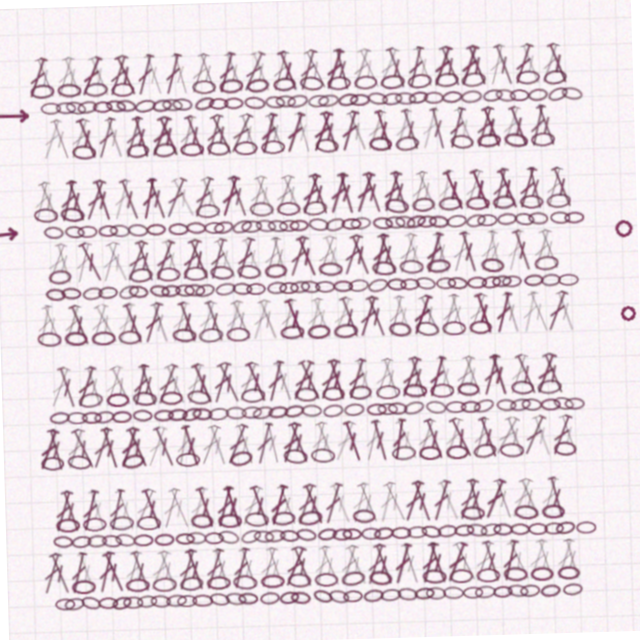chain: (508, 137, 534, 155), (387, 199, 413, 217), (414, 323, 440, 341), (184, 385, 210, 403), (117, 447, 142, 465), (225, 447, 250, 465), (333, 571, 359, 588), (306, 75, 331, 92), (63, 199, 88, 216), (76, 385, 101, 402), (63, 447, 88, 464), (279, 447, 304, 464), (292, 509, 317, 526), (553, 92, 576, 110), (388, 323, 412, 340), (469, 447, 493, 464), (361, 571, 385, 588), (387, 76, 412, 92), (414, 76, 439, 92), (468, 76, 493, 92), (400, 138, 425, 154), (306, 200, 331, 216), (130, 262, 155, 278), (211, 262, 236, 278), (238, 262, 263, 278), (373, 262, 398, 278), (198, 324, 223, 340), (292, 386, 317, 402), (508, 510, 533, 526), (225, 572, 250, 588), (400, 402, 423, 419), (470, 402, 493, 419), (211, 526, 234, 543), (253, 76, 277, 92), (550, 76, 574, 92), (320, 138, 344, 154), (455, 138, 479, 154), (482, 262, 506, 278), (172, 572, 196, 588), (333, 324, 358, 339), (130, 386, 155, 401), (535, 386, 560, 401), (200, 92, 222, 109), (234, 216, 256, 233), (408, 216, 430, 233), (119, 278, 141, 295), (178, 402, 200, 419), (550, 402, 572, 419), (234, 526, 256, 543), (72, 588, 94, 605), (304, 588, 326, 605), (140, 93, 163, 109), (567, 93, 590, 109), (249, 403, 272, 419), (37, 76, 61, 91), (64, 76, 88, 91), (91, 76, 115, 91), (226, 76, 250, 91), (442, 76, 466, 91), (523, 76, 547, 91), (77, 138, 101, 153), (131, 138, 155, 153), (158, 138, 182, 153), (482, 138, 506, 153), (37, 200, 61, 215), (253, 200, 277, 215), (415, 200, 439, 215), (442, 200, 466, 215), (550, 200, 574, 215), (320, 262, 344, 277), (401, 262, 425, 277), (428, 262, 452, 277), (536, 262, 560, 277), (37, 324, 61, 339), (172, 324, 196, 339), (280, 324, 304, 339), (239, 386, 263, 401), (401, 386, 425, 401), (307, 448, 331, 463), (388, 448, 412, 463), (496, 448, 520, 463), (104, 510, 128, 525), (239, 510, 263, 525), (266, 510, 290, 525), (455, 510, 479, 525), (280, 572, 304, 587), (415, 572, 439, 587), (496, 572, 520, 587), (71, 93, 93, 109), (501, 93, 523, 109), (327, 217, 349, 233), (468, 217, 490, 233), (195, 279, 217, 295), (368, 279, 390, 295), (414, 527, 436, 543), (103, 589, 125, 605), (320, 589, 342, 605), (280, 76, 303, 91), (212, 138, 235, 153), (374, 138, 397, 153), (496, 200, 519, 215), (50, 262, 73, 277), (266, 262, 289, 277), (64, 324, 87, 339), (307, 324, 330, 339), (347, 386, 370, 401), (455, 386, 478, 401), (509, 386, 532, 401), (550, 448, 573, 463), (185, 510, 208, 525), (347, 510, 370, 525), (199, 77, 223, 91), (334, 77, 358, 91), (185, 139, 209, 153), (239, 139, 263, 153), (266, 139, 290, 153), (536, 139, 560, 153), (199, 201, 223, 215), (280, 201, 304, 215), (469, 201, 493, 215), (523, 201, 547, 215), (158, 263, 182, 277), (185, 263, 209, 277), (91, 325, 115, 339), (226, 325, 250, 339), (442, 325, 466, 339), (374, 387, 398, 401), (428, 387, 452, 401), (172, 449, 196, 463), (50, 511, 74, 525), (77, 511, 101, 525), (131, 511, 155, 525), (212, 511, 236, 525), (64, 573, 88, 587), (118, 573, 142, 587), (145, 573, 169, 587), (199, 573, 223, 587), (253, 573, 277, 587), (307, 573, 331, 587), (442, 573, 466, 587), (469, 573, 493, 587), (111, 93, 133, 108), (293, 93, 315, 108), (373, 93, 395, 108), (414, 93, 436, 108), (397, 217, 419, 232), (507, 403, 529, 418), (108, 527, 130, 542), (289, 527, 311, 542), (460, 527, 482, 542), (474, 527, 496, 542), (217, 589, 239, 604), (499, 589, 521, 604), (118, 77, 141, 91), (361, 77, 384, 91), (118, 325, 141, 339), (469, 325, 492, 339), (104, 387, 127, 401), (158, 387, 181, 401), (320, 387, 343, 401), (37, 449, 60, 463), (415, 449, 438, 463), (442, 449, 465, 463), (536, 511, 559, 525), (523, 573, 546, 587), (550, 573, 573, 587), (83, 93, 104, 108), (122, 93, 143, 108), (344, 93, 365, 108), (489, 93, 510, 108), (216, 217, 237, 232), (258, 217, 279, 232), (311, 217, 332, 232), (129, 279, 150, 294), (150, 279, 171, 294), (216, 279, 237, 294), (301, 279, 322, 294), (416, 279, 437, 294), (281, 403, 302, 418), (423, 403, 444, 418), (311, 527, 332, 542), (549, 527, 570, 542), (201, 589, 222, 604), (271, 589, 292, 604), (389, 589, 410, 604), (250, 94, 272, 108), (314, 94, 336, 108), (324, 94, 346, 108), (401, 94, 423, 108), (467, 94, 489, 108), (205, 404, 227, 418), (372, 590, 394, 604), (158, 94, 179, 108), (168, 94, 189, 108), (271, 94, 292, 108), (388, 94, 409, 108), (448, 94, 469, 108), (534, 94, 555, 108), (46, 218, 67, 232), (67, 218, 88, 232), (112, 218, 133, 232), (130, 218, 151, 232), (270, 218, 291, 232), (375, 218, 396, 232), (431, 218, 452, 232), (449, 218, 470, 232), (517, 218, 538, 232), (46, 280, 67, 294), (83, 280, 104, 294), (448, 280, 469, 294), (482, 280, 503, 294), (91, 404, 112, 418), (265, 404, 286, 418), (320, 404, 341, 418), (65, 528, 86, 542), (95, 528, 116, 542), (247, 528, 268, 542), (273, 528, 294, 542), (367, 528, 388, 542), (56, 590, 77, 604), (282, 590, 303, 604), (355, 590, 376, 604), (532, 590, 553, 604), (258, 528, 280, 541), (178, 94, 199, 107), (244, 218, 265, 231), (353, 218, 374, 231), (185, 280, 206, 293), (233, 280, 254, 293), (349, 280, 370, 293), (189, 404, 210, 417), (223, 404, 244, 417), (341, 404, 362, 417), (431, 528, 452, 541), (142, 590, 163, 603), (158, 590, 179, 603), (406, 590, 427, 603), (435, 590, 456, 603), (467, 590, 488, 603), (282, 94, 302, 107), (189, 218, 209, 231), (388, 218, 408, 231), (420, 218, 440, 231), (500, 218, 520, 231), (531, 218, 551, 231), (553, 218, 573, 231), (62, 280, 82, 293), (99, 280, 119, 293), (162, 280, 182, 293), (176, 280, 196, 293), (268, 280, 288, 293), (291, 280, 311, 293), (388, 280, 408, 293), (493, 280, 513, 293), (525, 280, 545, 293), (542, 280, 562, 293), (47, 404, 67, 417), (130, 404, 150, 417), (165, 404, 185, 417), (239, 404, 259, 417), (299, 404, 319, 417), (385, 404, 405, 417), (494, 404, 514, 417), (519, 404, 539, 417), (47, 528, 67, 541), (81, 528, 101, 541), (180, 528, 200, 541), (448, 528, 468, 541), (487, 528, 507, 541), (129, 590, 149, 603), (230, 590, 250, 603), (252, 590, 272, 603), (418, 590, 438, 603), (512, 590, 532, 603), (555, 590, 575, 603), (559, 281, 580, 293), (64, 405, 85, 417), (443, 405, 464, 417), (184, 591, 205, 603), (47, 95, 67, 107), (62, 95, 82, 107), (99, 95, 119, 107), (215, 95, 235, 107), (230, 95, 250, 107), (356, 95, 376, 107), (430, 95, 450, 107), (516, 95, 536, 107), (80, 219, 100, 231), (101, 219, 121, 231), (149, 219, 169, 231), (171, 219, 191, 231), (207, 219, 227, 231), (282, 219, 302, 231), (292, 219, 312, 231), (344, 219, 364, 231), (480, 219, 500, 231), (567, 219, 587, 231), (247, 281, 267, 293), (280, 281, 300, 293), (316, 281, 336, 293), (334, 281, 354, 293), (401, 281, 421, 293), (437, 281, 457, 293), (468, 281, 488, 293), (503, 281, 523, 293), (79, 405, 99, 417), (109, 405, 129, 417), (151, 405, 171, 417), (364, 405, 384, 417), (375, 405, 395, 417), (458, 405, 478, 417), (538, 405, 558, 417), (562, 405, 582, 417), (127, 529, 147, 541), (148, 529, 168, 541), (169, 529, 189, 541), (198, 529, 218, 541), (326, 529, 346, 541), (336, 529, 356, 541), (355, 529, 375, 541), (385, 529, 405, 541), (401, 529, 421, 541), (504, 529, 524, 541), (522, 529, 542, 541), (538, 529, 558, 541), (570, 529, 590, 541), (47, 591, 67, 603), (90, 591, 110, 603), (115, 591, 135, 603), (169, 591, 189, 603), (335, 591, 355, 603), (455, 591, 475, 603), (485, 591, 505, 603)
double: (487, 420, 520, 463), (231, 110, 262, 153), (172, 172, 203, 215), (91, 296, 122, 339), (246, 48, 276, 92), (286, 358, 316, 402), (65, 420, 95, 464), (375, 482, 405, 526), (273, 544, 303, 588), (497, 544, 527, 588), (308, 48, 338, 91), (78, 234, 108, 277), (443, 420, 473, 463), (516, 420, 546, 463), (124, 482, 154, 525), (443, 544, 473, 587), (84, 48, 113, 92), (119, 48, 148, 92), (362, 48, 391, 92), (381, 48, 410, 92), (213, 110, 242, 154), (165, 172, 194, 216), (105, 234, 134, 278), (124, 234, 153, 278), (213, 234, 242, 278), (416, 296, 445, 340), (543, 296, 572, 340), (105, 358, 134, 402), (151, 358, 180, 402), (213, 358, 242, 402), (232, 358, 261, 402), (294, 358, 323, 402), (192, 420, 221, 464), (219, 420, 248, 464), (327, 420, 356, 464), (389, 420, 418, 464), (232, 482, 261, 526), (475, 482, 504, 526), (502, 482, 531, 526), (138, 544, 167, 588), (435, 544, 464, 588), (93, 48, 121, 92), (444, 48, 472, 92), (71, 110, 99, 154), (152, 110, 180, 154), (160, 110, 188, 154), (314, 110, 342, 154), (349, 110, 377, 154), (39, 172, 67, 216), (85, 172, 113, 216), (193, 172, 221, 216), (201, 172, 229, 216), (255, 172, 283, 216), (274, 172, 302, 216), (282, 172, 310, 216), (417, 172, 445, 216), (444, 172, 472, 216), (498, 172, 526, 216), (552, 172, 580, 216), (44, 234, 72, 278), (152, 234, 180, 278), (179, 234, 207, 278), (187, 234, 215, 278), (241, 234, 269, 278), (295, 234, 323, 278), (314, 234, 342, 278), (66, 296, 94, 340), (228, 296, 256, 340), (328, 296, 356, 340), (463, 296, 491, 340), (525, 296, 553, 340), (44, 358, 72, 402), (160, 358, 188, 402), (187, 358, 215, 402), (241, 358, 269, 402), (314, 358, 342, 402), (395, 358, 423, 402), (449, 358, 477, 402), (511, 358, 539, 402), (530, 358, 558, 402), (538, 358, 566, 402), (31, 420, 59, 464), (120, 420, 148, 464), (139, 420, 167, 464), (147, 420, 175, 464), (544, 420, 572, 464), (160, 482, 188, 526), (322, 482, 350, 526), (349, 482, 377, 526), (430, 482, 458, 526), (449, 482, 477, 526), (511, 482, 539, 526), (39, 544, 67, 588), (93, 544, 121, 588), (309, 544, 337, 588), (336, 544, 364, 588), (31, 48, 58, 92), (39, 48, 66, 92), (112, 48, 139, 92), (193, 48, 220, 92), (255, 48, 282, 92), (282, 48, 309, 92), (328, 48, 355, 92), (355, 48, 382, 92), (436, 48, 463, 92), (463, 48, 490, 92), (471, 48, 498, 92), (498, 48, 525, 92), (517, 48, 544, 92), (525, 48, 552, 92), (544, 48, 571, 92), (552, 48, 579, 92), (44, 110, 71, 154), (79, 110, 106, 154), (187, 110, 214, 154), (268, 110, 295, 154), (287, 110, 314, 154), (368, 110, 395, 154), (457, 110, 484, 154), (484, 110, 511, 154), (503, 110, 530, 154), (511, 110, 538, 154), (120, 172, 147, 216), (301, 172, 328, 216), (355, 172, 382, 216), (382, 172, 409, 216), (463, 172, 490, 216), (471, 172, 498, 216), (287, 234, 314, 278), (322, 234, 349, 278), (341, 234, 368, 278), (349, 234, 376, 278), (538, 234, 565, 278), (39, 296, 66, 340), (85, 296, 112, 340), (120, 296, 147, 340), (193, 296, 220, 340), (255, 296, 282, 340), (282, 296, 309, 340), (309, 296, 336, 340), (355, 296, 382, 340), (363, 296, 390, 340), (409, 296, 436, 340), (71, 358, 98, 402), (98, 358, 125, 402), (368, 358, 395, 402), (503, 358, 530, 402), (85, 420, 112, 464), (112, 420, 139, 464), (274, 420, 301, 464), (282, 420, 309, 464), (309, 420, 336, 464), (409, 420, 436, 464), (287, 482, 314, 526), (295, 482, 322, 526), (395, 482, 422, 526), (282, 544, 309, 588), (355, 544, 382, 588), (463, 544, 490, 588), (517, 544, 544, 588), (59, 48, 85, 92), (67, 48, 93, 92), (148, 48, 174, 92), (202, 48, 228, 92), (229, 48, 255, 92), (302, 48, 328, 92), (391, 48, 417, 92), (418, 48, 444, 92), (53, 110, 79, 154), (107, 110, 133, 154), (126, 110, 152, 154), (342, 110, 368, 154), (477, 110, 503, 154), (539, 110, 565, 154), (67, 172, 93, 216), (148, 172, 174, 216), (221, 172, 247, 216), (229, 172, 255, 216), (248, 172, 274, 216), (310, 172, 336, 216), (329, 172, 355, 216), (518, 172, 544, 216), (99, 234, 125, 278), (134, 234, 160, 278), (234, 234, 260, 278), (377, 234, 403, 278), (396, 234, 422, 278), (404, 234, 430, 278), (423, 234, 449, 278), (477, 234, 503, 278), (531, 234, 557, 278), (59, 296, 85, 340), (113, 296, 139, 340), (140, 296, 166, 340), (167, 296, 193, 340), (175, 296, 201, 340), (202, 296, 228, 340), (221, 296, 247, 340), (248, 296, 274, 340), (337, 296, 363, 340), (391, 296, 417, 340), (437, 296, 463, 340), (553, 296, 579, 340), (180, 358, 206, 402), (207, 358, 233, 402), (269, 358, 295, 402), (342, 358, 368, 402), (350, 358, 376, 402), (458, 358, 484, 402), (59, 420, 85, 464), (418, 420, 444, 464), (437, 420, 463, 464), (472, 420, 498, 464), (499, 420, 525, 464), (526, 420, 552, 464), (45, 482, 71, 526), (107, 482, 133, 526), (134, 482, 160, 526), (180, 482, 206, 526), (242, 482, 268, 526), (269, 482, 295, 526), (315, 482, 341, 526), (404, 482, 430, 526), (423, 482, 449, 526), (485, 482, 511, 526), (531, 482, 557, 526), (32, 544, 58, 588), (67, 544, 93, 588), (121, 544, 147, 588), (148, 544, 174, 588), (167, 544, 193, 588), (175, 544, 201, 588), (194, 544, 220, 588), (248, 544, 274, 588), (329, 544, 355, 588), (364, 544, 390, 588), (418, 544, 444, 588), (545, 544, 571, 588), (140, 48, 165, 92), (221, 48, 246, 92), (275, 48, 300, 92), (99, 110, 124, 154), (207, 110, 232, 154), (242, 110, 267, 154), (323, 110, 348, 154), (377, 110, 402, 154), (396, 110, 421, 154), (404, 110, 429, 154), (423, 110, 448, 154), (450, 110, 475, 154), (94, 172, 119, 216), (113, 172, 138, 216), (364, 172, 389, 216), (391, 172, 416, 216), (410, 172, 435, 216), (545, 172, 570, 216), (161, 234, 186, 278), (207, 234, 232, 278), (261, 234, 286, 278), (450, 234, 475, 278), (512, 234, 537, 278), (148, 296, 173, 340), (472, 296, 497, 340), (53, 358, 78, 402), (80, 358, 105, 402), (134, 358, 159, 402), (323, 358, 348, 402), (377, 358, 402, 402), (404, 358, 429, 402), (423, 358, 448, 402), (477, 358, 502, 402), (485, 358, 510, 402), (94, 420, 119, 464), (175, 420, 200, 464), (202, 420, 227, 464), (229, 420, 254, 464), (337, 420, 362, 464), (553, 420, 578, 464), (53, 482, 78, 526), (80, 482, 105, 526), (153, 482, 178, 526), (188, 482, 213, 526), (207, 482, 232, 526), (261, 482, 286, 526), (342, 482, 367, 526), (113, 544, 138, 588), (229, 544, 254, 588), (256, 544, 281, 588), (383, 544, 408, 588), (391, 544, 416, 588), (410, 544, 435, 588), (526, 544, 551, 588), (168, 48, 192, 92), (411, 48, 435, 92), (492, 48, 516, 92), (135, 110, 159, 154), (181, 110, 205, 154), (262, 110, 286, 154), (33, 172, 57, 216), (60, 172, 84, 216), (338, 172, 362, 216), (492, 172, 516, 216), (54, 234, 78, 278), (73, 234, 97, 278), (270, 234, 294, 278), (370, 234, 394, 278), (432, 234, 456, 278), (459, 234, 483, 278), (505, 234, 529, 278), (276, 296, 300, 340), (303, 296, 327, 340), (384, 296, 408, 340), (492, 296, 516, 340), (500, 296, 524, 340), (127, 358, 151, 402), (262, 358, 286, 402), (432, 358, 456, 402), (249, 420, 273, 464), (303, 420, 327, 464), (357, 420, 381, 464), (465, 420, 489, 464), (73, 482, 97, 526), (216, 482, 240, 526), (370, 482, 394, 526), (87, 544, 111, 588), (203, 544, 227, 588), (222, 544, 246, 588), (303, 544, 327, 588), (473, 544, 497, 588), (176, 48, 199, 92), (338, 48, 361, 92), (297, 110, 320, 154), (432, 110, 455, 154), (532, 110, 555, 154), (438, 172, 461, 216), (446, 296, 469, 340), (519, 296, 542, 340), (41, 420, 64, 464), (365, 420, 388, 464), (100, 482, 123, 526), (459, 482, 482, 526), (540, 482, 563, 526), (60, 544, 83, 588), (492, 544, 515, 588), (554, 544, 577, 588), (142, 172, 164, 216), (528, 172, 550, 216), (34, 296, 56, 339), (258, 420, 280, 463), (487, 234, 508, 277), (170, 420, 190, 463), (386, 420, 406, 463)
noise: (0, 100, 37, 114), (616, 227, 637, 248), (0, 216, 23, 235), (619, 313, 637, 331)
